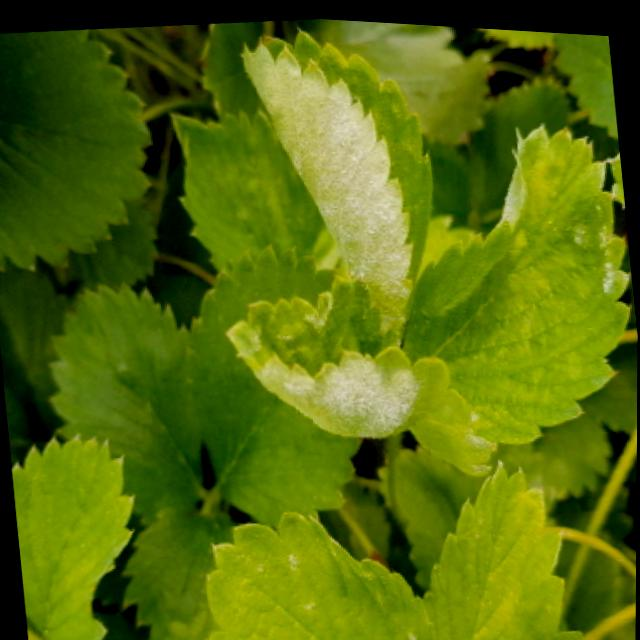Powdery Mildew Leaf: (401, 113, 631, 471), (239, 25, 431, 349), (200, 507, 432, 640), (224, 286, 418, 431)
